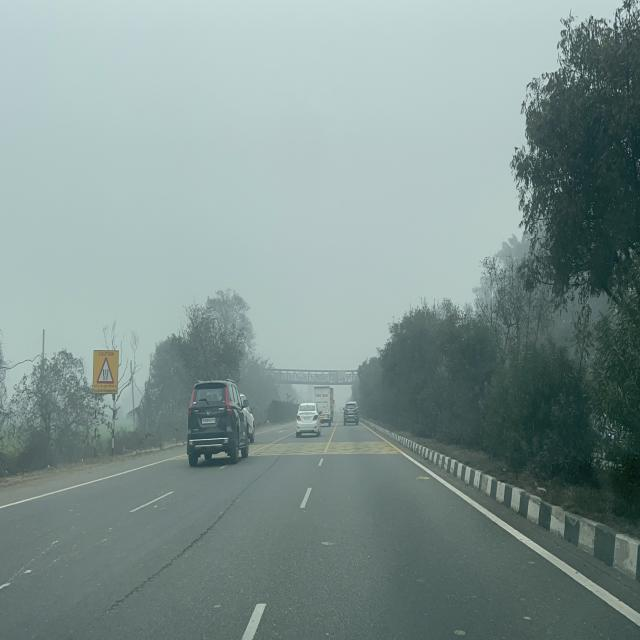ROAD_WIDENS_AHEAD: (96, 356, 115, 384)
